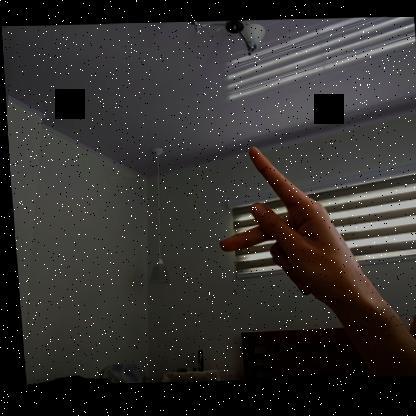K: (208, 144, 351, 303)
